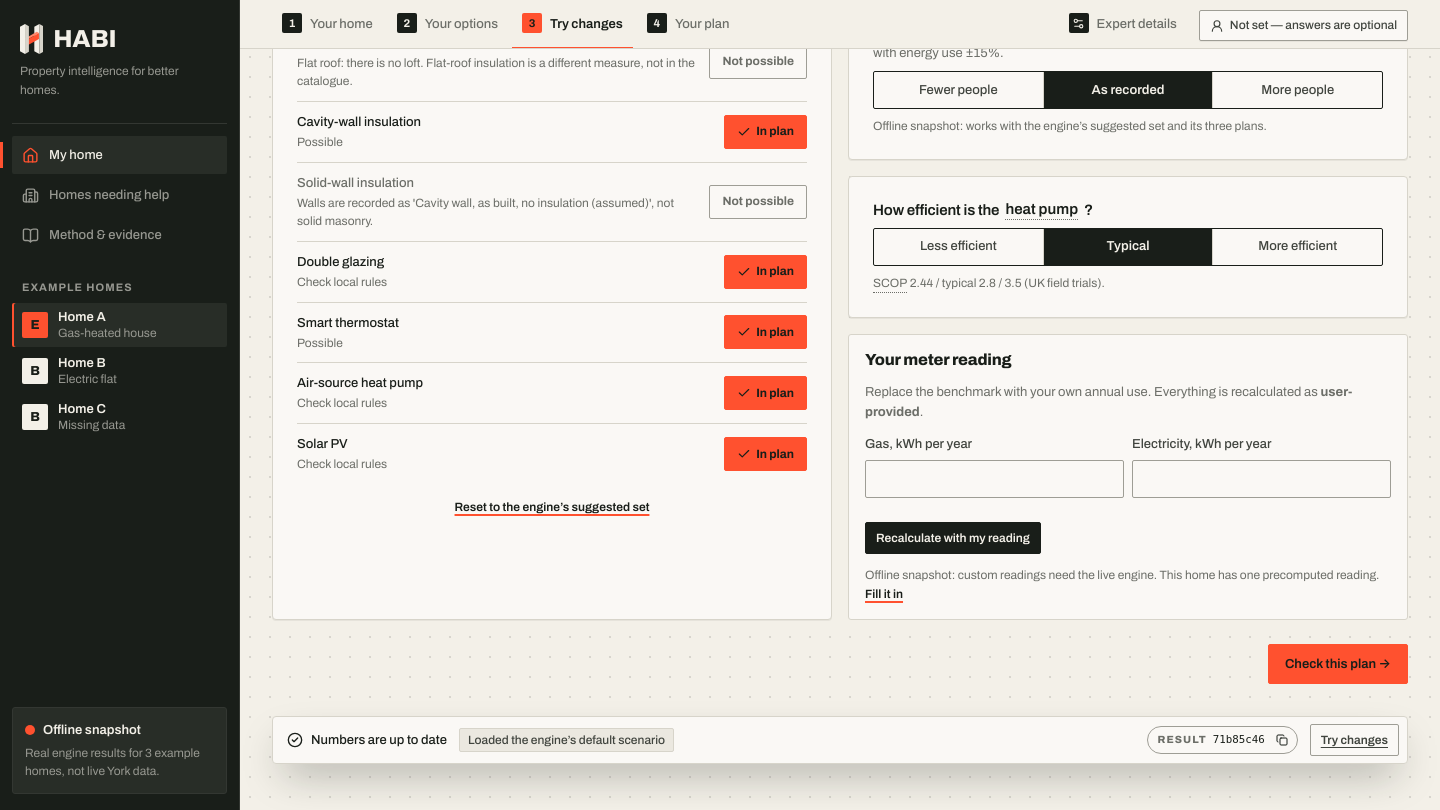
Test case: step 3: try changes › adds and removes improvements with plain buttons
(page scrolled)
Expected: the element named "Steps" is shown, [272,0,1187,48]
Click the button with aria-label "Remove Solar PV" at (766, 454), box [724,437,807,471]
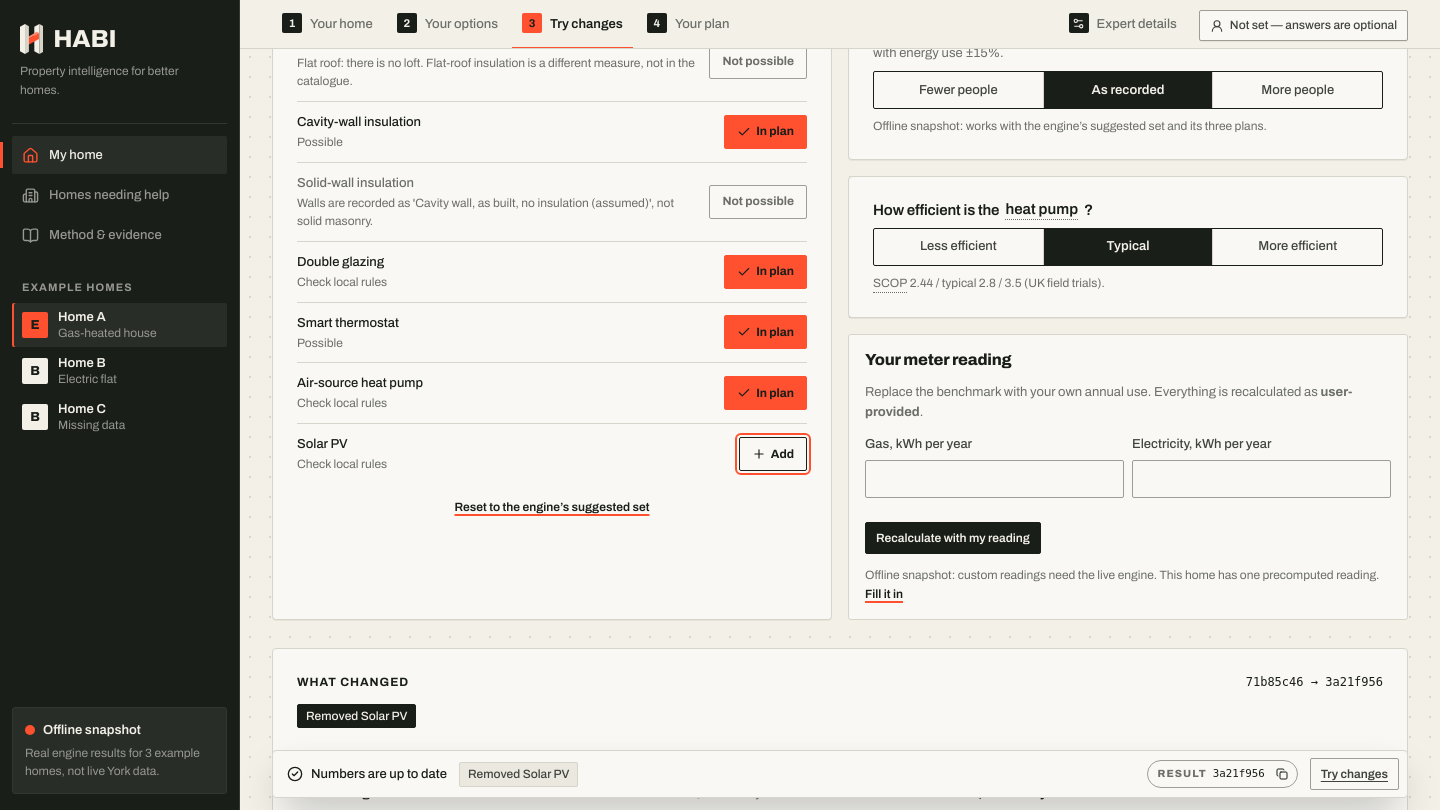
Expected: the button with aria-label "Add Solid-wall insulation" is disabled, [709,185,807,219]
Now the button with aria-label "Add Solar PV" is shown, box [739,437,807,471]
Now the text "What changed" is shown, box [297,673,409,692]
